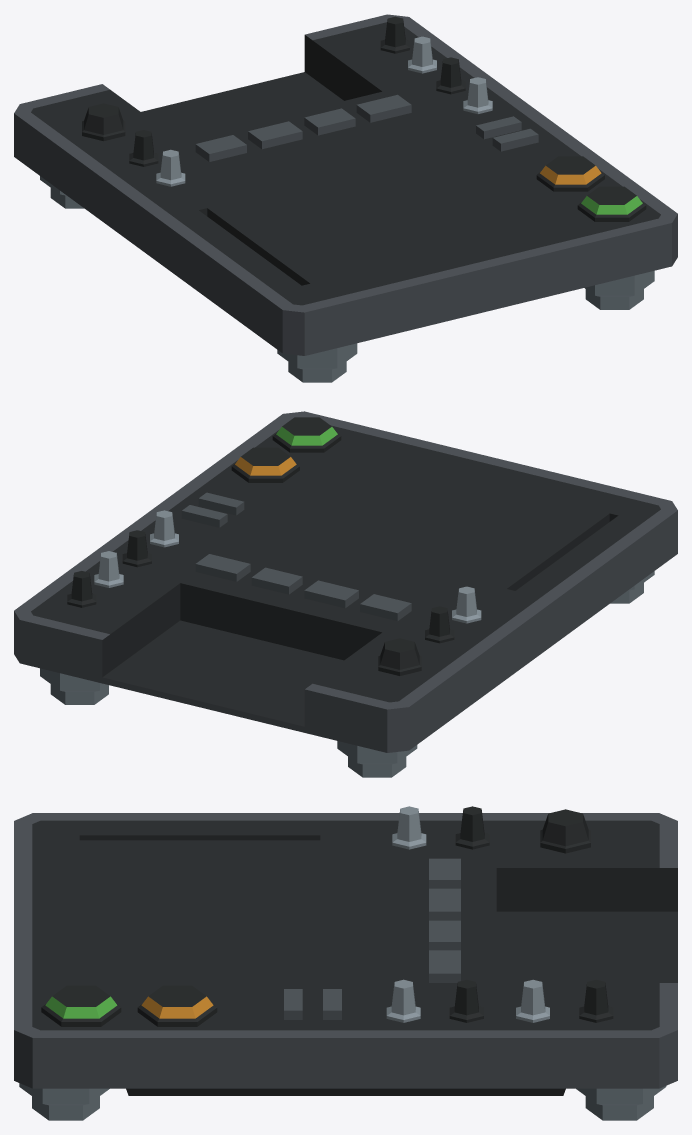
Rendered from SM_Prop_DJ_Turntable_02.obj.
The picture shows the model from 3 angles, top to bottom: view 1: azimuth 30°, elevation 25°; view 2: azimuth 150°, elevation 25°; view 3: azimuth 270°, elevation 25°; orthographic projection. The views are drawn at different scales.
Visible parts, largest first — view 1: SM_Prop_DJ_Turntable_02_0; view 2: SM_Prop_DJ_Turntable_02_0; view 3: SM_Prop_DJ_Turntable_02_0.
Boxes of the visible parts, bbox=[...] form: SM_Prop_DJ_Turntable_02_0: bbox=[14, 14, 677, 382]; SM_Prop_DJ_Turntable_02_0: bbox=[14, 411, 677, 777]; SM_Prop_DJ_Turntable_02_0: bbox=[14, 806, 677, 1120].
Size of the model in its own units: 0.6112 by 0.163 by 0.7629.
1 material, 1 textured.
